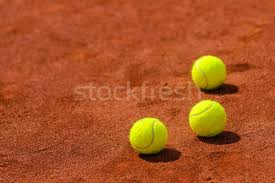tennis_ball: (129, 117, 167, 155), (189, 99, 226, 137), (191, 55, 226, 91)
